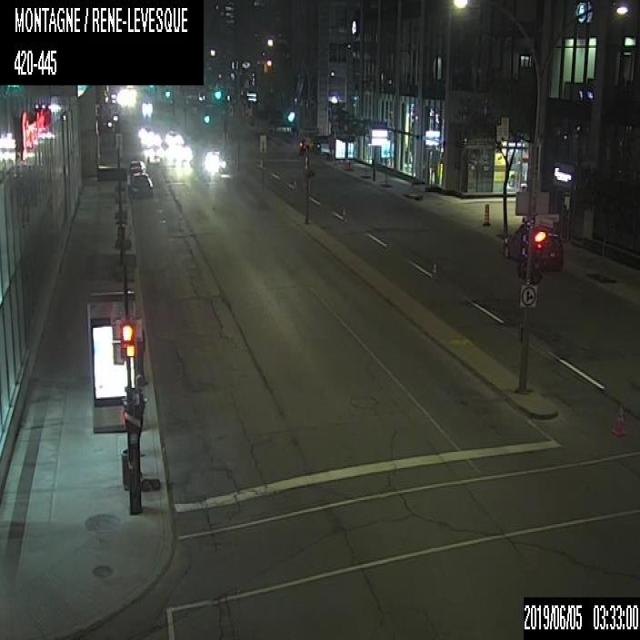construction: (611, 400, 624, 439), (482, 204, 491, 225)
pedestrian: (133, 373, 146, 455), (135, 327, 145, 382)
vehicle: (499, 217, 563, 272), (130, 171, 154, 196), (128, 160, 146, 177)
